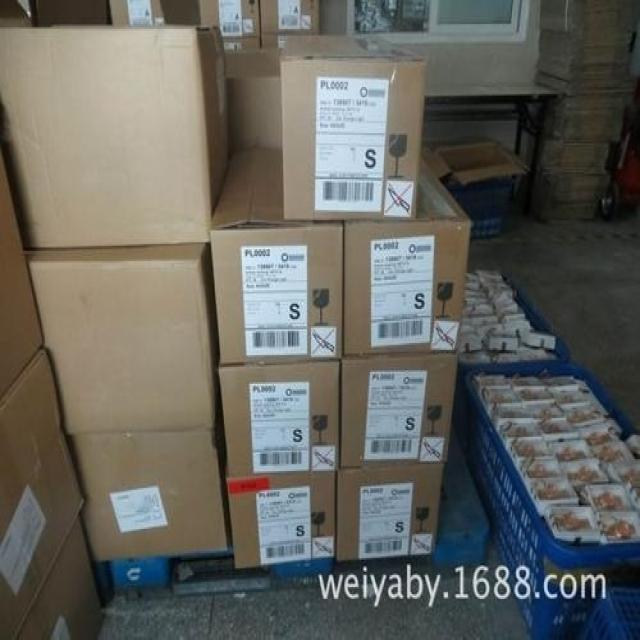box: (0, 24, 230, 247), (24, 241, 220, 435), (210, 145, 343, 364), (279, 34, 426, 220), (343, 152, 470, 357), (0, 348, 84, 640), (63, 428, 229, 560), (218, 358, 339, 476), (342, 353, 457, 468), (0, 150, 44, 406), (337, 459, 444, 561), (227, 471, 335, 568), (15, 521, 102, 640), (225, 51, 283, 148), (196, 0, 260, 38), (261, 0, 320, 32), (110, 0, 168, 24), (261, 31, 321, 48), (223, 38, 259, 53)
